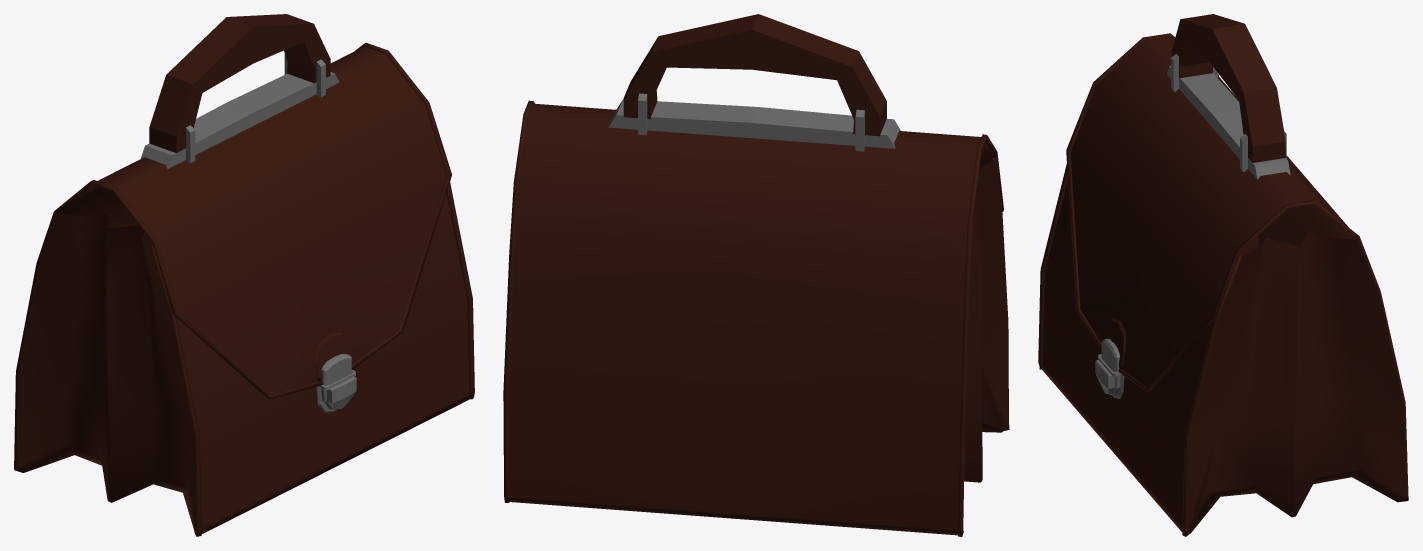
File: breafcase1.FBX
3 renders of one model, left to right at view 1: azimuth 30°, elevation 25°; view 2: azimuth 150°, elevation 25°; view 3: azimuth 270°, elevation 25°, orthographic. The views are drawn at different scales.
Visible parts, largest first — view 1: briefcase; view 2: briefcase; view 3: briefcase.
Boxes of the visible parts, x1,y1,x2,y2 form: briefcase: (14, 14, 474, 536); briefcase: (503, 14, 1009, 536); briefcase: (1038, 14, 1408, 536).
Size of the model in its own units: 813 by 759 by 625.
